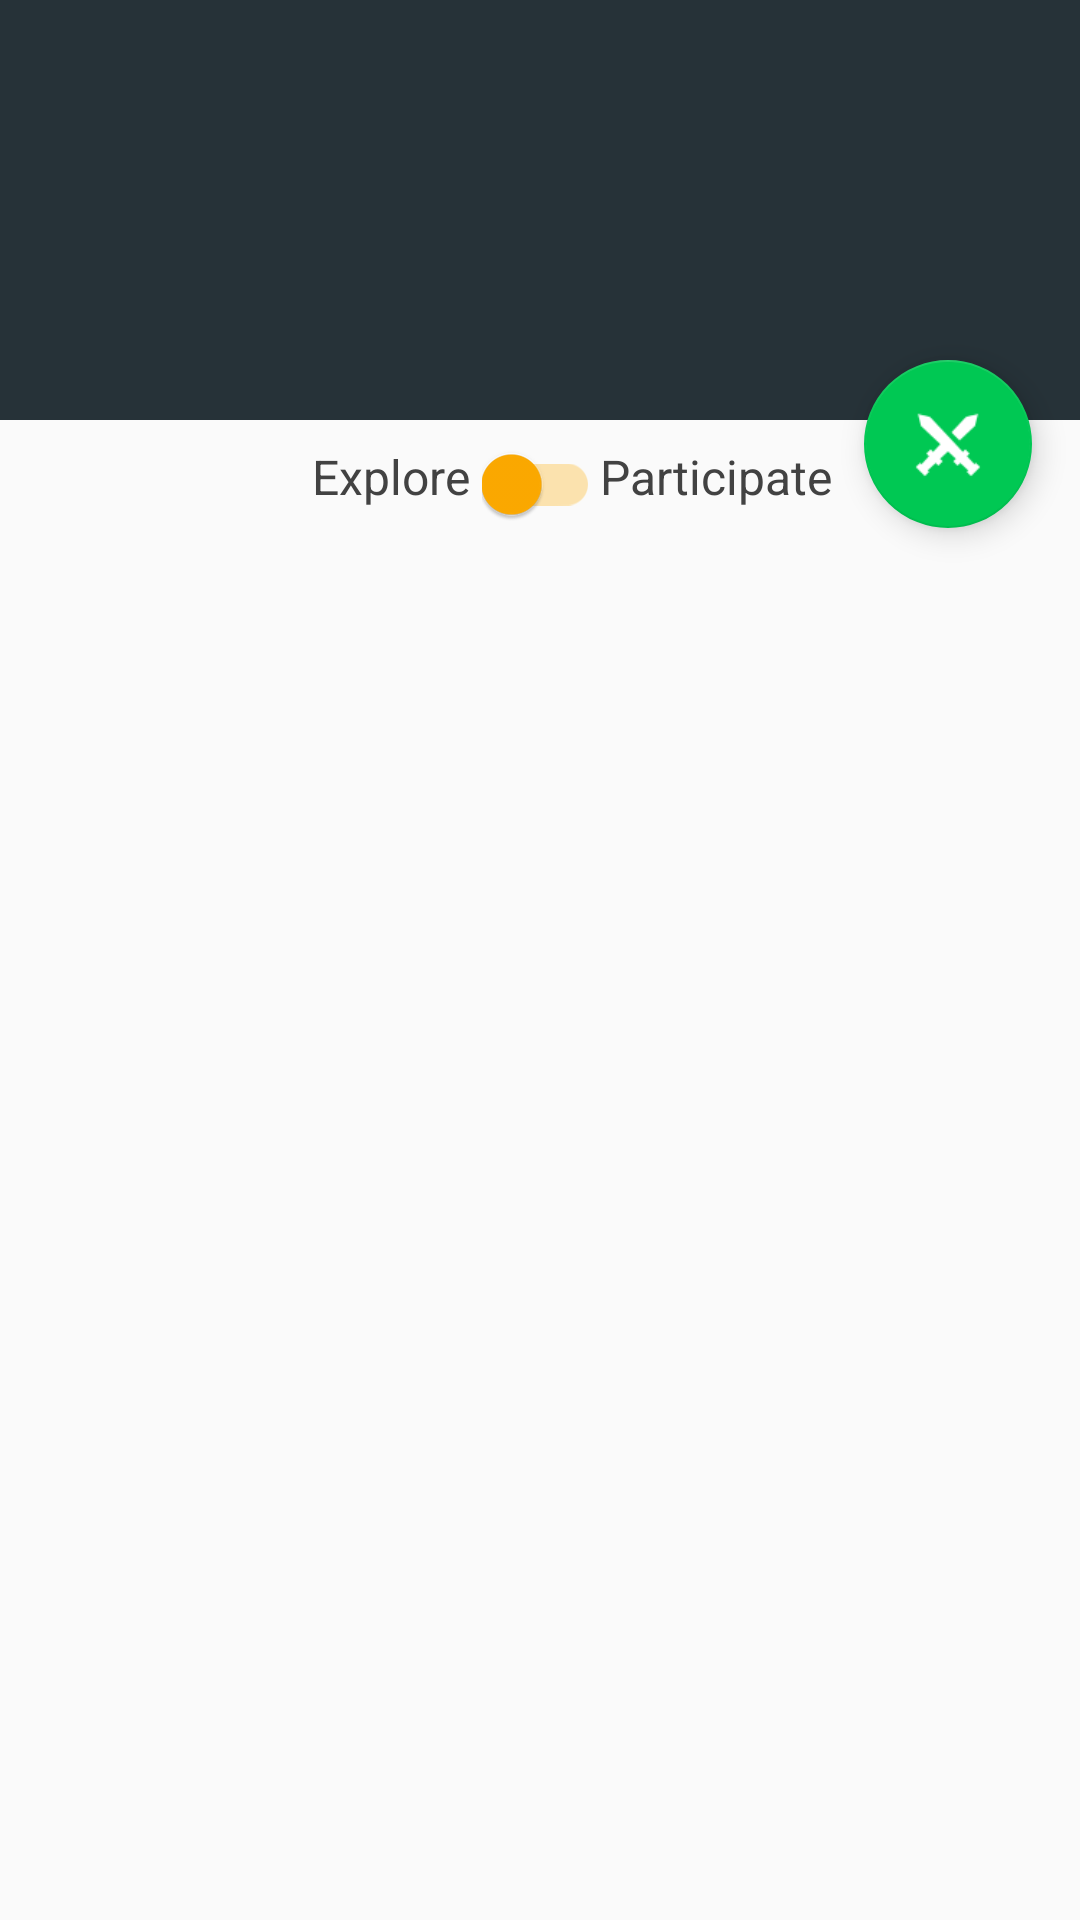

Named icons in this screenshot (1080x1920) and their centers, (x,y):
sword: (948,444)
